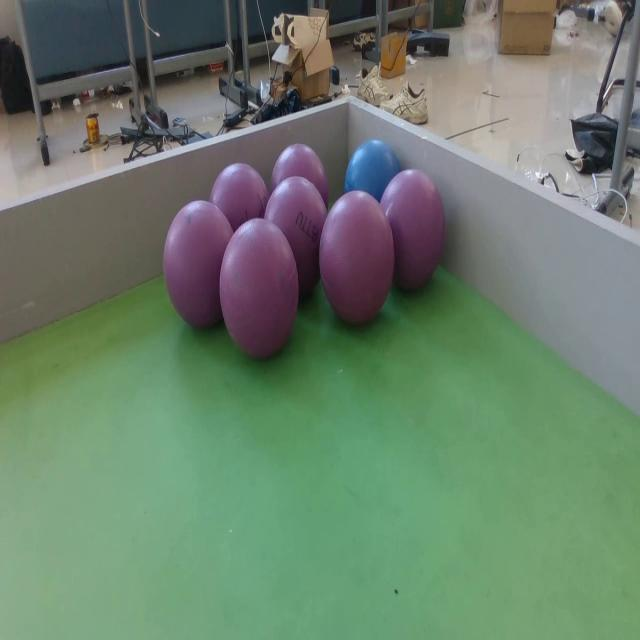blue: (344, 140, 402, 200)
invalid: (219, 220, 297, 363), (318, 194, 394, 324), (161, 202, 233, 328), (382, 162, 444, 286), (266, 176, 326, 303), (208, 160, 264, 233), (271, 142, 326, 207)
